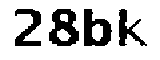2: (11, 4, 43, 50)
8: (47, 6, 80, 48)
b: (79, 4, 112, 51)
k: (115, 6, 148, 52)
